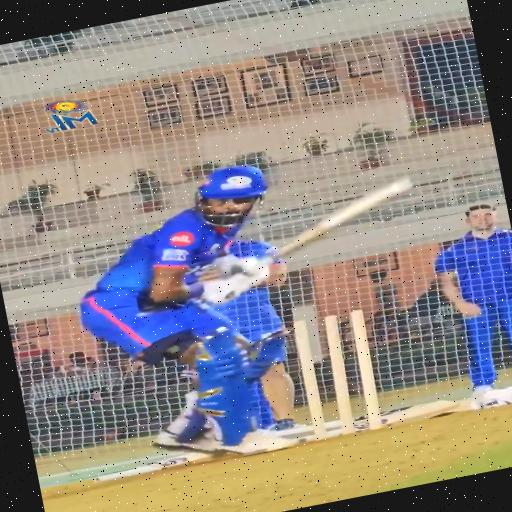Cricket bat: (281, 178, 412, 256)
